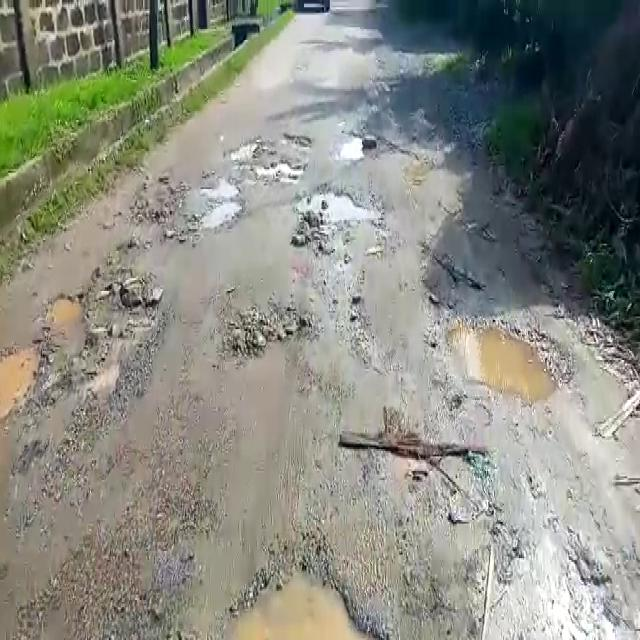Pothole: (210, 549, 390, 640), (456, 311, 573, 404), (47, 273, 162, 353), (282, 187, 386, 247), (0, 340, 38, 424), (191, 184, 245, 233), (248, 159, 309, 184), (336, 130, 367, 167), (280, 130, 317, 147)
